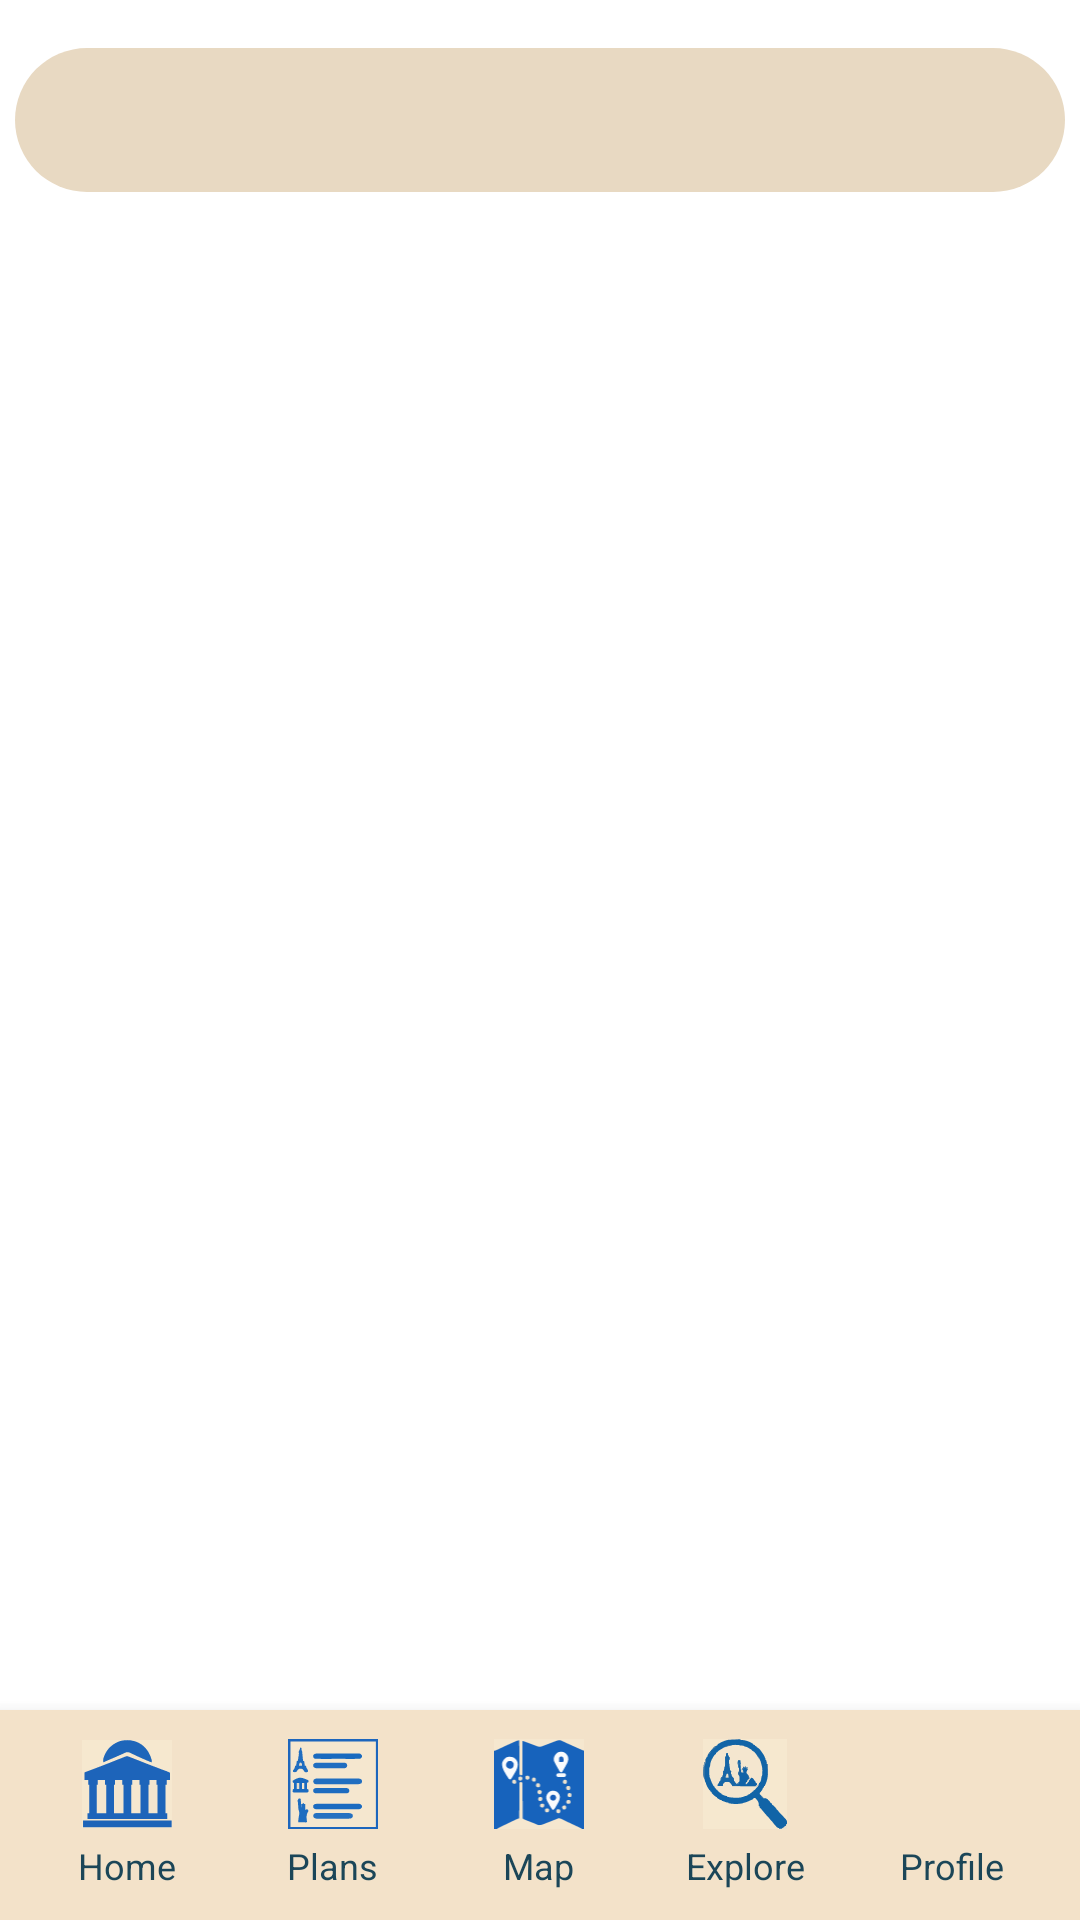

Icon click points for this 1080 × 1920 phone screenshot, format (x,y):
search: (745,1784)
